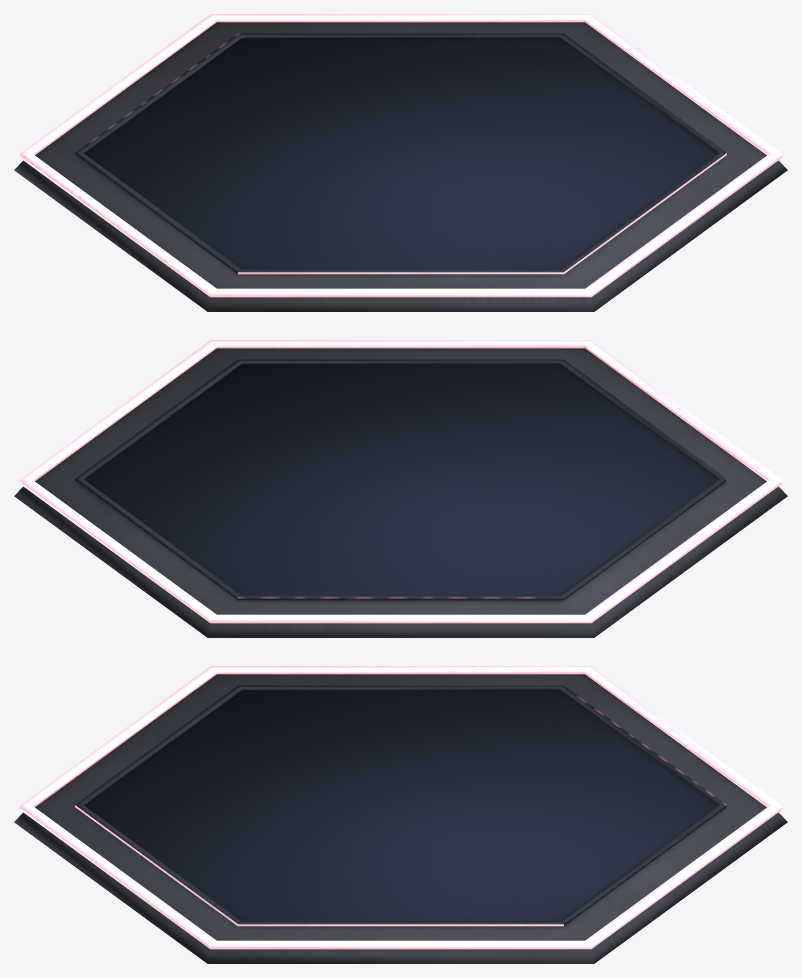
File: SM_HexTile_Away_Space.glb
The picture shows the model from 3 angles, top to bottom: view 1: azimuth 30°, elevation 25°; view 2: azimuth 150°, elevation 25°; view 3: azimuth 270°, elevation 25°; orthographic projection.
Visible parts, largest first — view 1: HexTile_Away; view 2: HexTile_Away; view 3: HexTile_Away.
Boxes of the visible parts, <box> form: HexTile_Away: <box>14,14,787,311</box>; HexTile_Away: <box>14,340,787,637</box>; HexTile_Away: <box>14,666,787,963</box>.
Size of the model in its own units: 0.95 by 0.027 by 1.1.
Materials: 1 (1 with a texture image).
